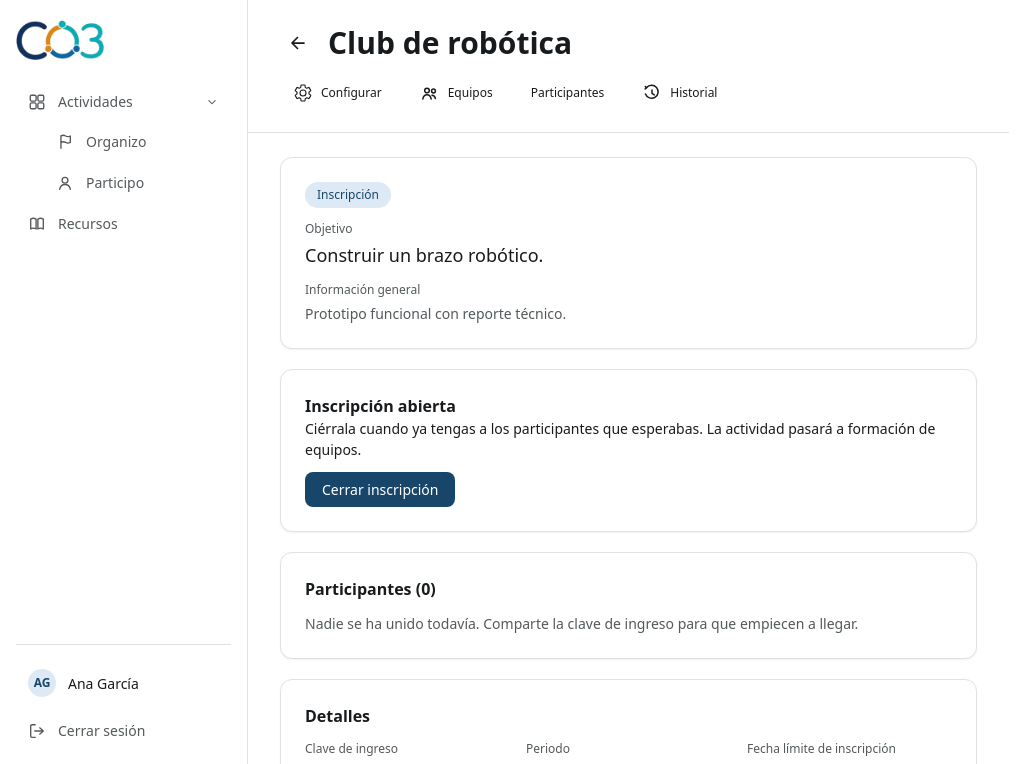
Test: PantallaResumenActividad › Historial abre un panel lateral, no navega a otra pantalla
Click the button "Historial": [680, 92] box left=629, top=78, right=730, bottom=108
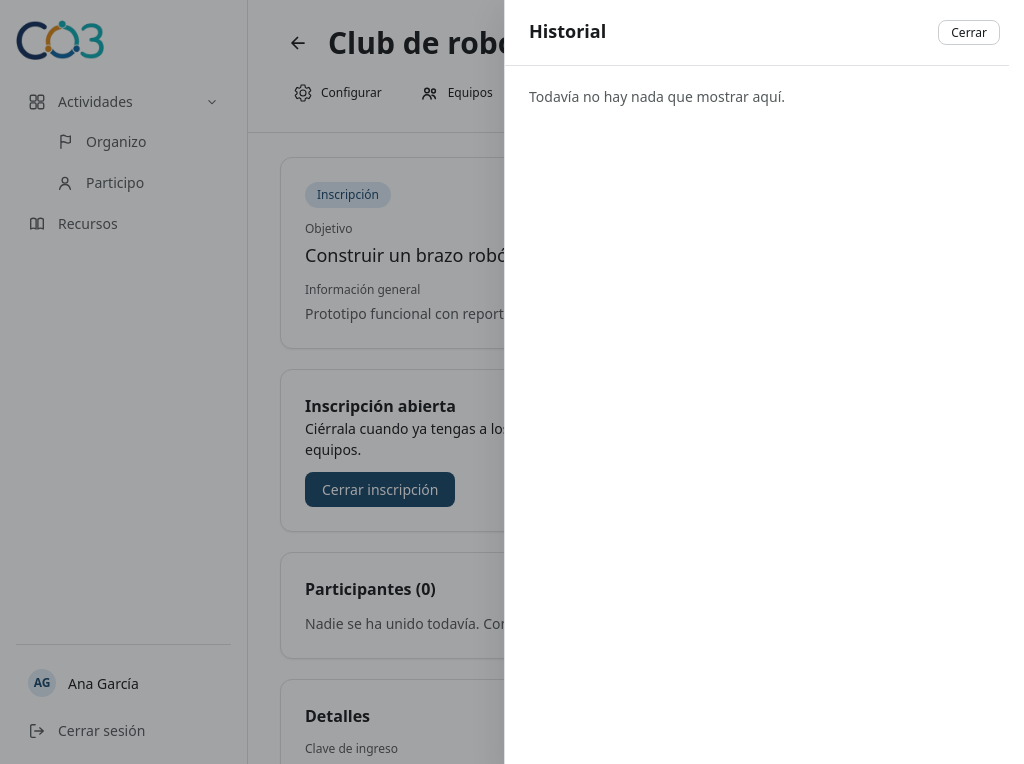
Expected: the dialog shows "Historial", left=529, top=19, right=606, bottom=43
